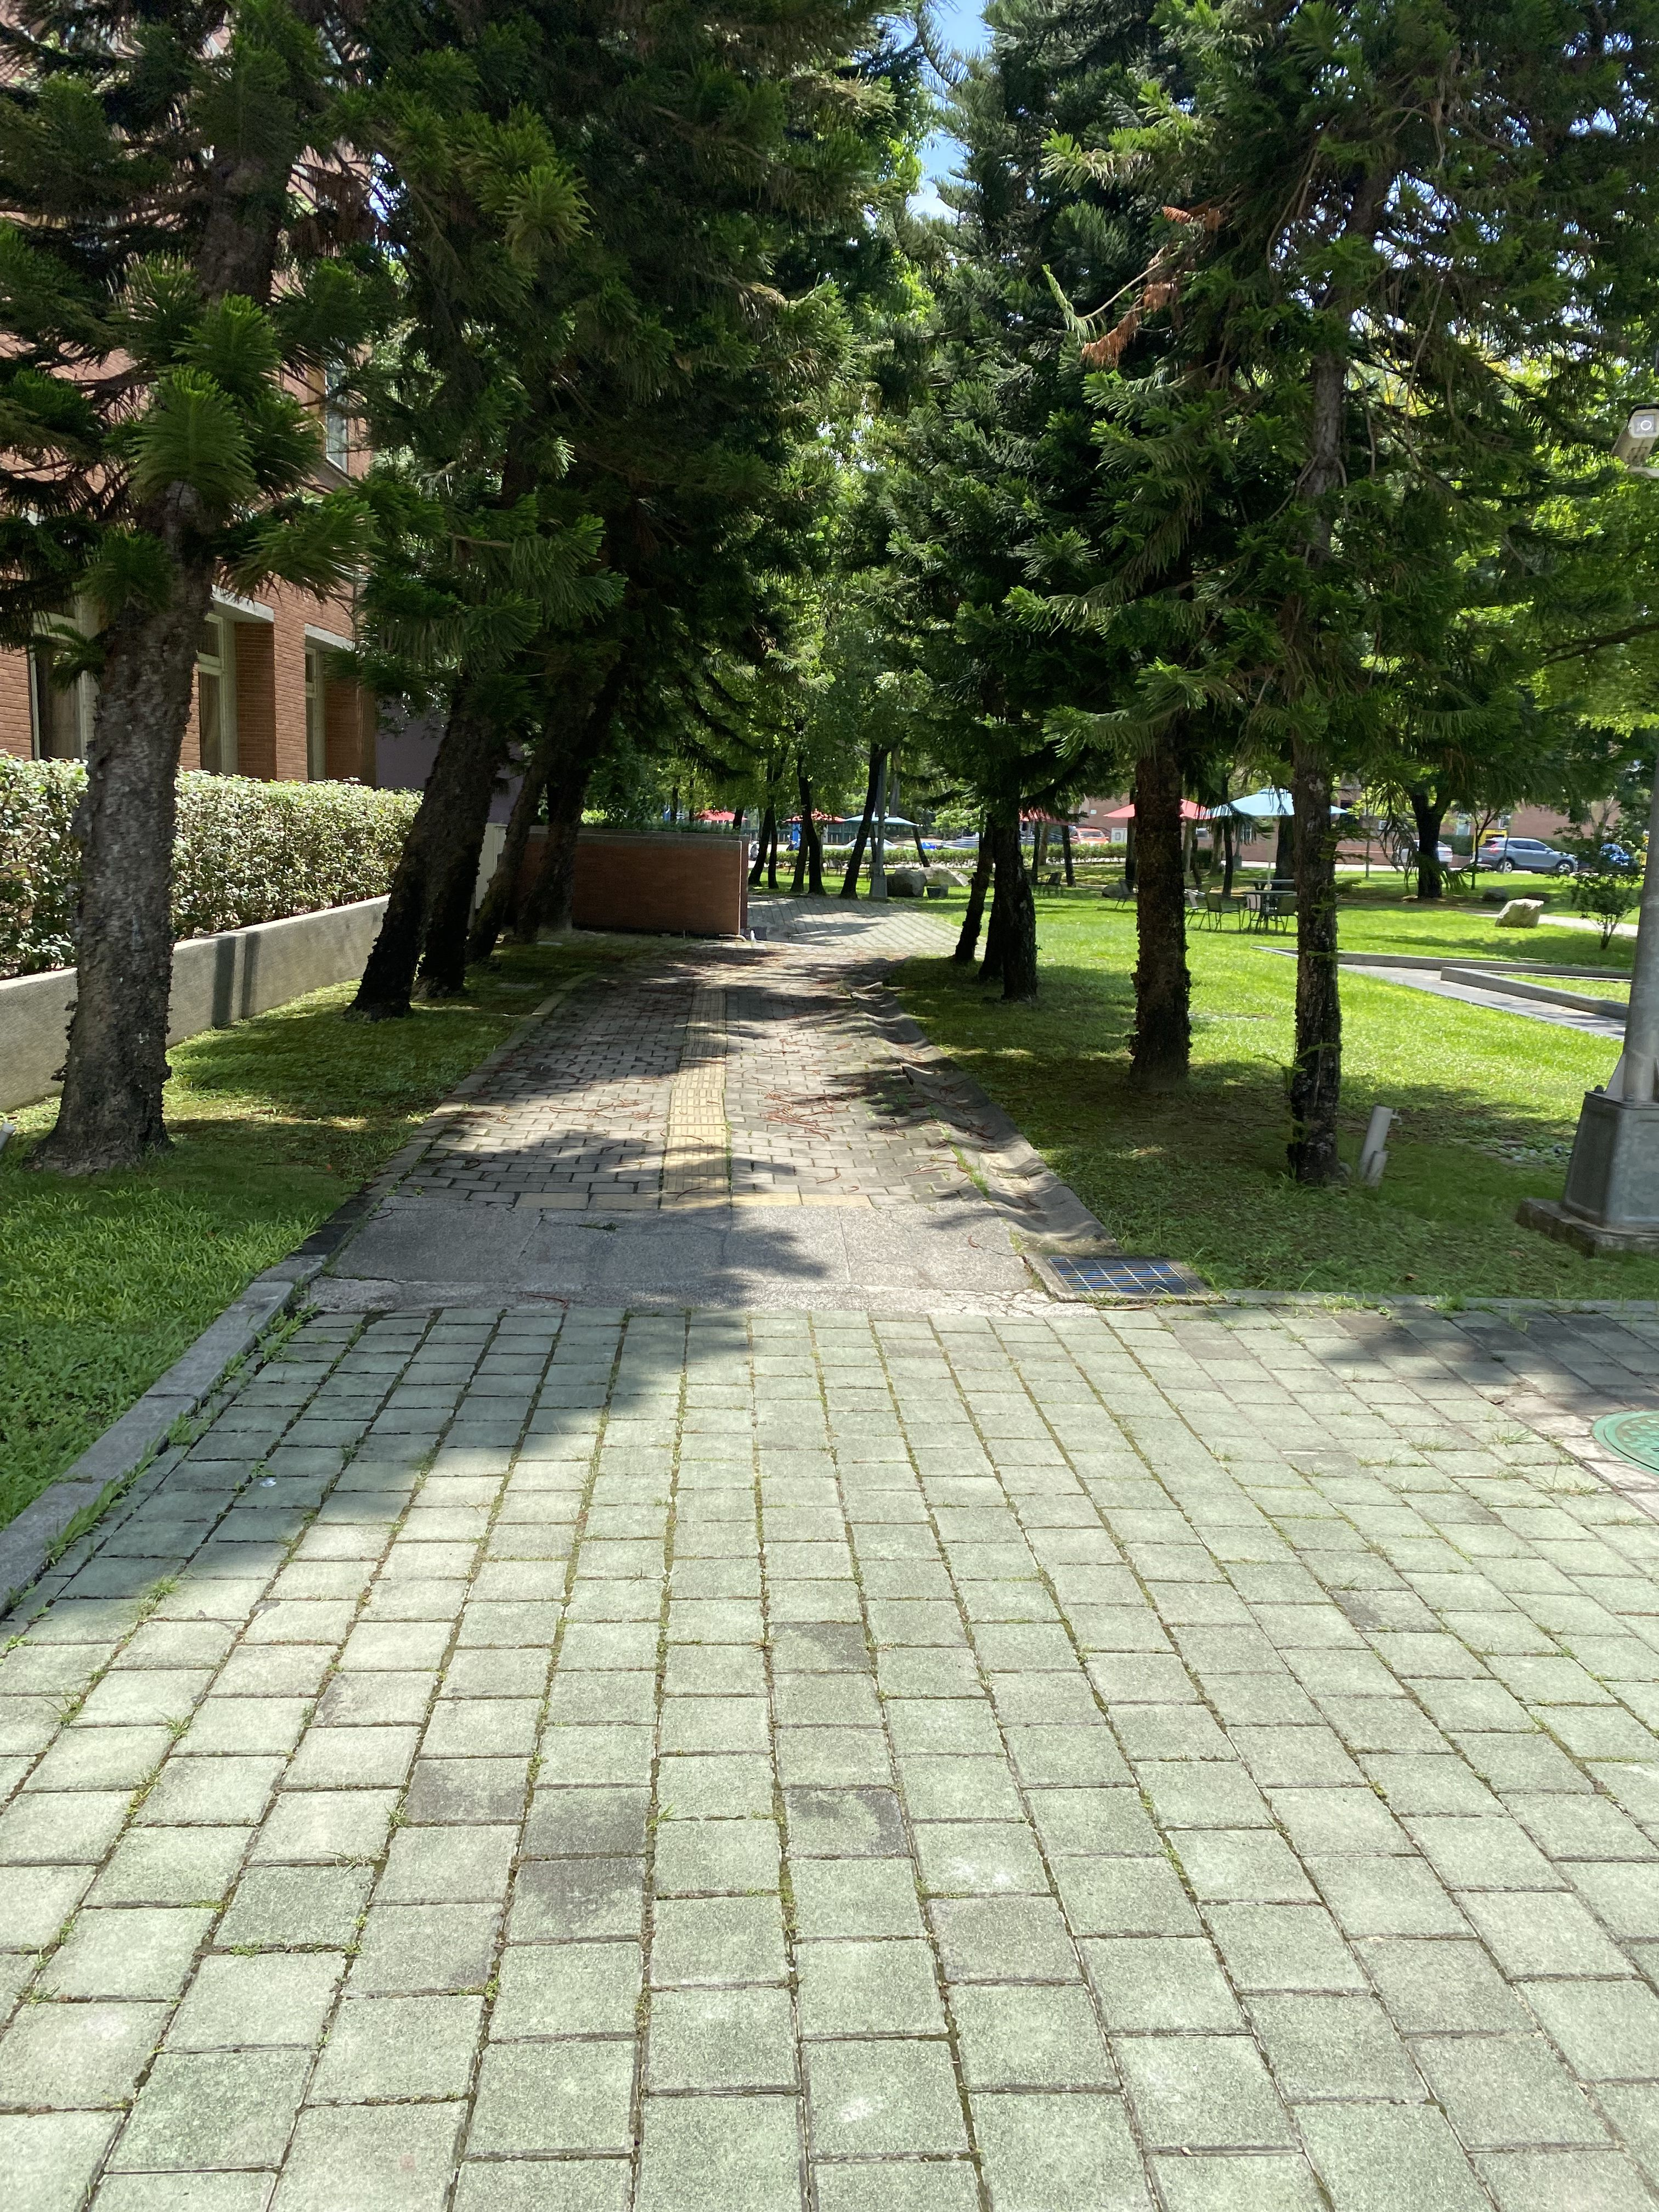0: (7, 1247, 1659, 2212)
sidewalk: (368, 836, 1183, 1440)
